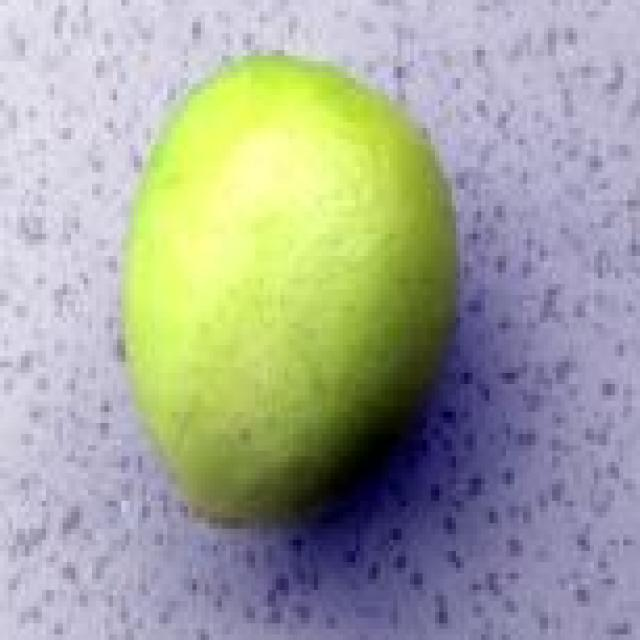Good_Lime-10-21-days: (121, 50, 460, 529)
